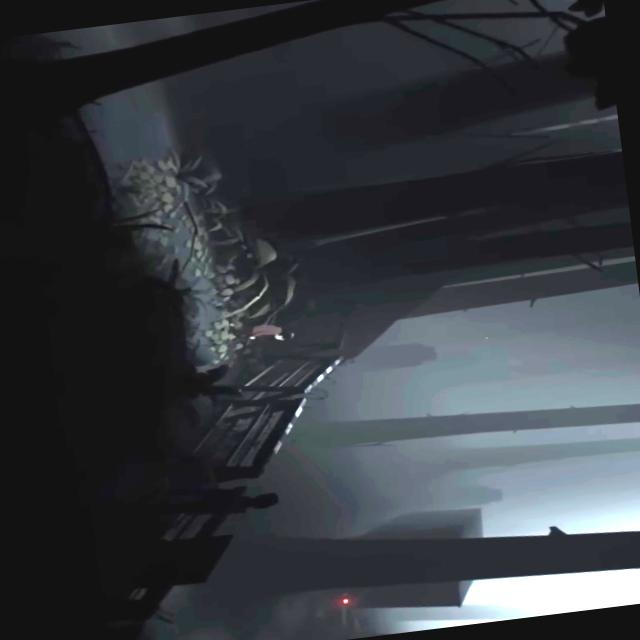boy: (232, 320, 294, 345)
